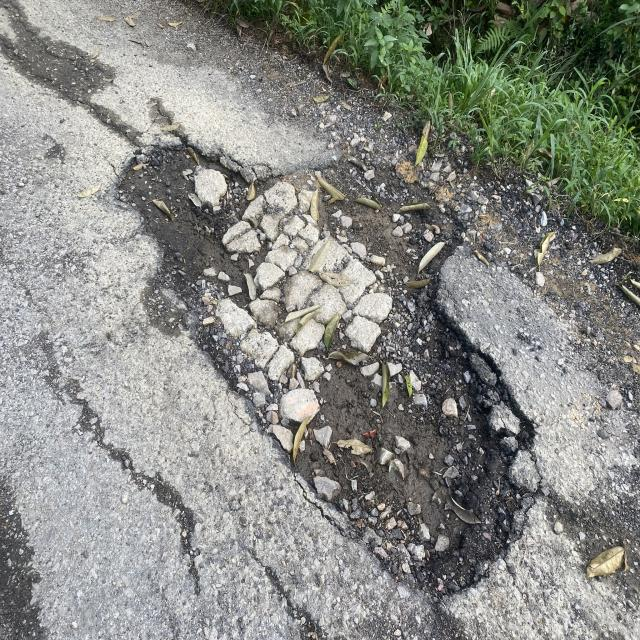pothole: (85, 60, 547, 600)
